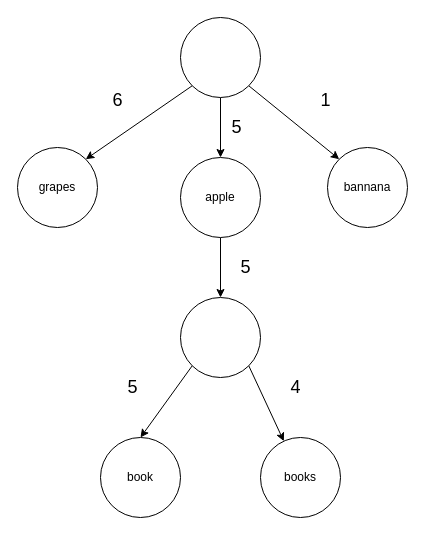
Image size: 425x535. Some labels were removed from this diagram. The shapes that lost their labels are listed below. From the top down, each one's box as (x1, y1, x2, y2) in pixels, then its label:
(180, 16, 260, 98): banana
(180, 296, 260, 378): graps
